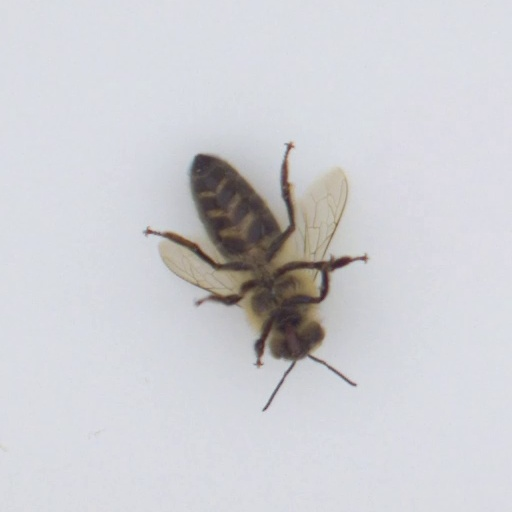Bee: (177, 134, 346, 368)
